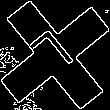L_SE: (27, 26, 83, 84)
